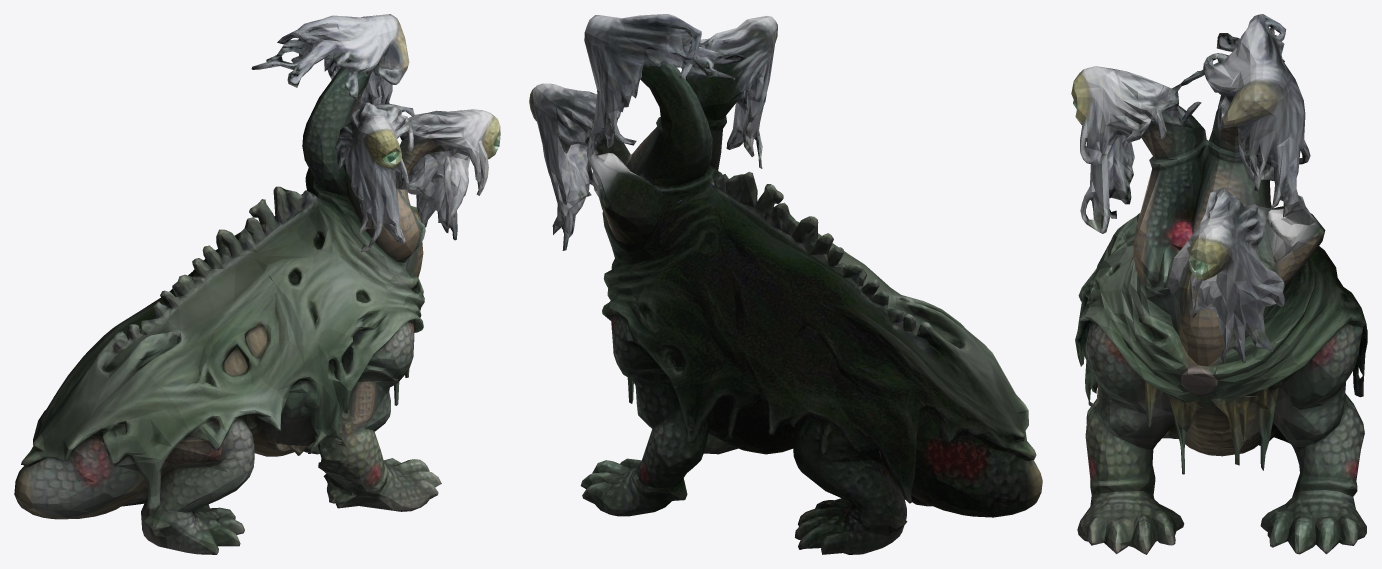
Rendered from mirequeen__bansheeMarshal.glb.
3 renders of one model, left to right at view 1: azimuth 30°, elevation 25°; view 2: azimuth 150°, elevation 25°; view 3: azimuth 270°, elevation 25°, orthographic. The views are drawn at different scales.
Parts seen in each view (by area): view 1: world; view 2: world; view 3: world.
Boxes of the visible parts, x1,y1,x2,y2 form: world: [14, 14, 500, 554]; world: [529, 14, 1042, 554]; world: [1071, 14, 1367, 554].
Size of the model in its own units: 1 by 0.8793 by 0.464.
Materials: 1 (1 with a texture image).
